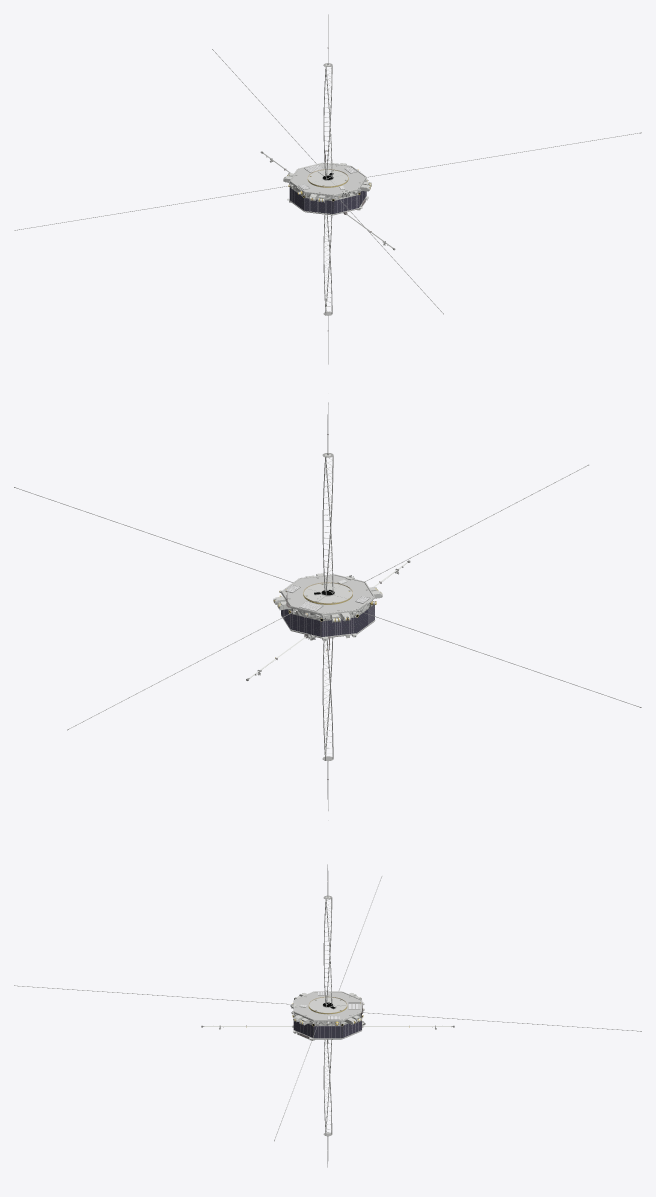
Rendered from magnetospheric-multiscale-mms-b.glb.
3 renders of one model, top to bottom at view 1: azimuth 30°, elevation 25°; view 2: azimuth 150°, elevation 25°; view 3: azimuth 270°, elevation 25°, orthographic. The views are drawn at different scales.
Parts seen in each view (by area): view 1: MainBus; view 2: MainBus; view 3: MainBus.
Part boxes in pixels (x1=…): MainBus: x1=14, y1=14, x2=641, y2=364; MainBus: x1=14, y1=402, x2=641, y2=810; MainBus: x1=14, y1=864, x2=641, y2=1167.
Size of the model in its own units: 14.51 by 8.51 by 14.51.
Materials: 3 (3 with a texture image).
